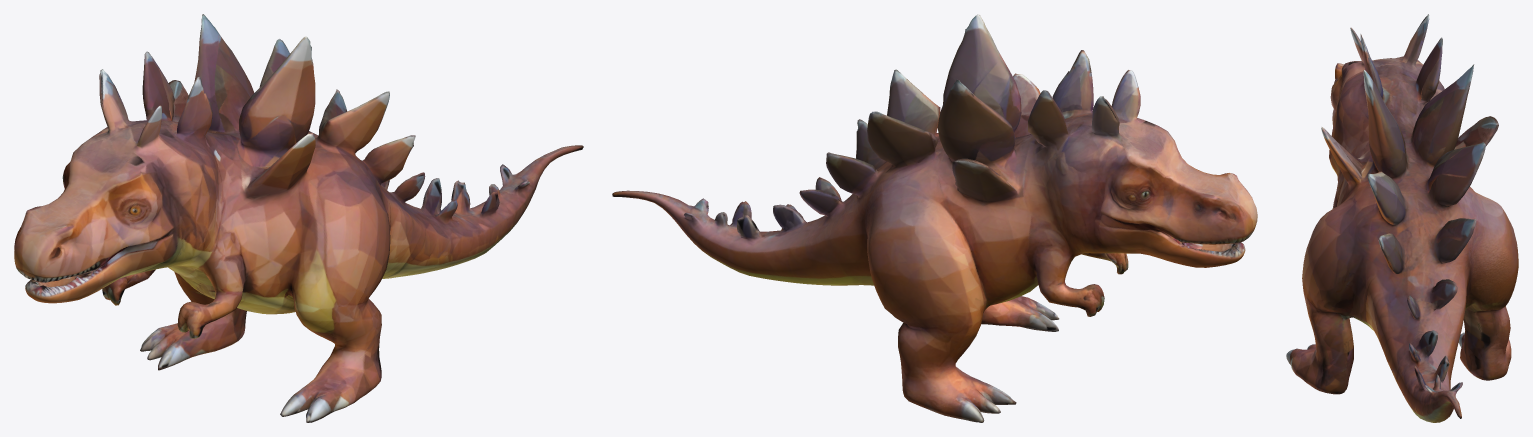
File: Low_Poly_dinosaur_0126041319_texture.fbx
The picture shows the model from 3 angles, left to right: view 1: azimuth 30°, elevation 25°; view 2: azimuth 150°, elevation 25°; view 3: azimuth 270°, elevation 25°; orthographic projection. The views are drawn at different scales.
Visible parts, largest first — view 1: Mesh1_Mesh1.048; view 2: Mesh1_Mesh1.048; view 3: Mesh1_Mesh1.048.
Boxes of the visible parts, left/top/right/bottom form: Mesh1_Mesh1.048: left=14, top=14, right=583, bottom=422; Mesh1_Mesh1.048: left=612, top=14, right=1257, bottom=422; Mesh1_Mesh1.048: left=1286, top=14, right=1518, bottom=422.
Bounding box in the file's own units: 200 × 109 × 73.46.
1 material, 1 textured.
